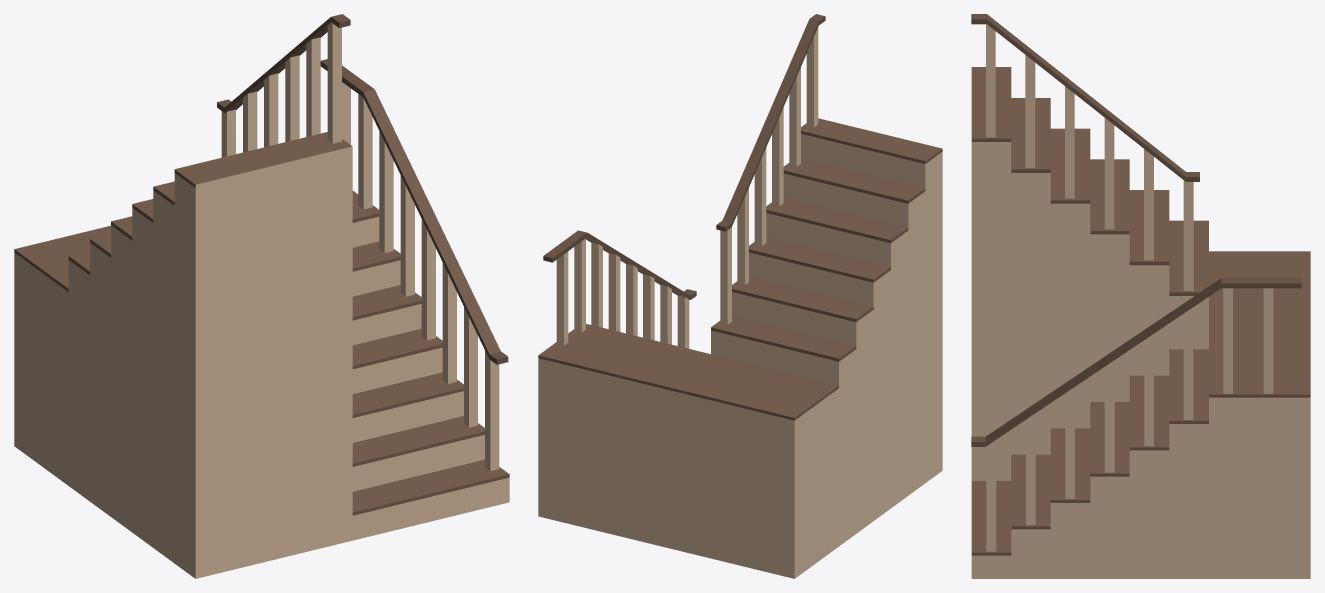
Rendered from Stairs1_C4.fbx.
The picture shows the model from 3 angles, left to right: view 1: azimuth 30°, elevation 25°; view 2: azimuth 150°, elevation 25°; view 3: azimuth 270°, elevation 25°; orthographic projection. The views are drawn at different scales.
Visible parts, largest first — view 1: Stairs1_C4; view 2: Stairs1_C4; view 3: Stairs1_C4.
Part boxes in pixels (x1,y1,x2,y2): Stairs1_C4: (14,14,509,578); Stairs1_C4: (538,14,942,578); Stairs1_C4: (971,14,1310,578).
Size of the model in its own units: 250 by 397 by 250.
